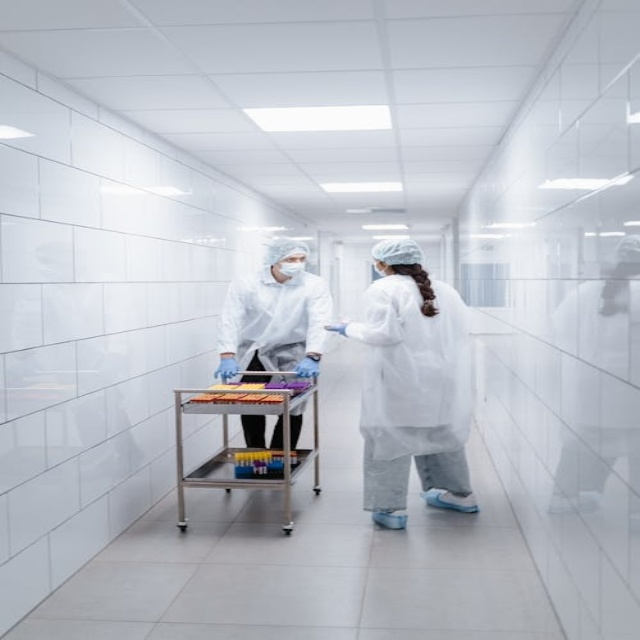Guantes: (215, 358, 240, 382), (293, 357, 320, 378), (325, 322, 349, 337)
Mascara: (614, 250, 639, 273), (278, 261, 306, 278), (371, 262, 388, 279)
Sin_gafas: (280, 257, 307, 264)
